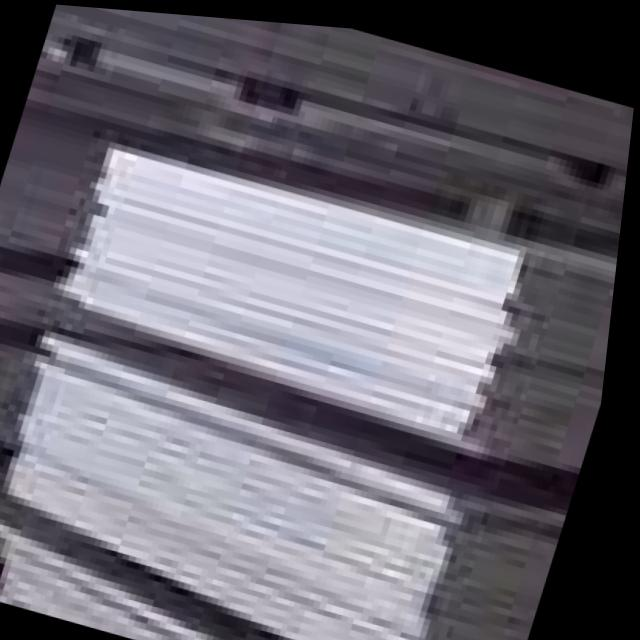metal-plates: (1, 5, 636, 640)
